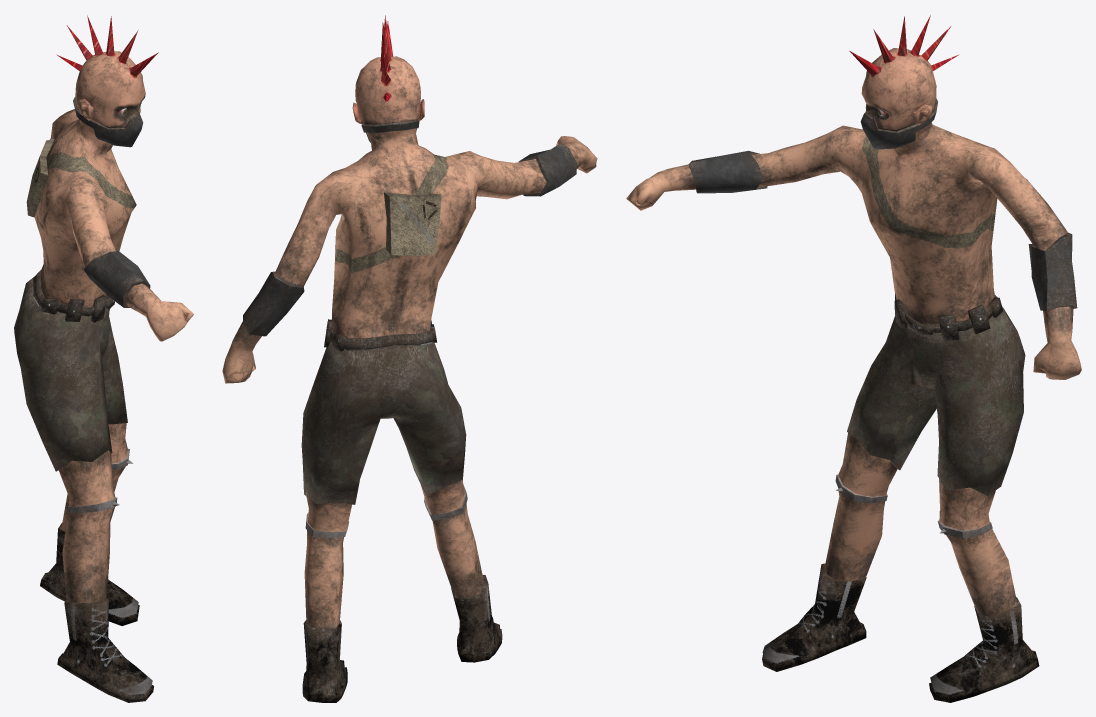
File: Anim_disparar_pistola_npc2.0021.obj
The picture shows the model from 3 angles, left to right: view 1: azimuth 30°, elevation 25°; view 2: azimuth 150°, elevation 25°; view 3: azimuth 270°, elevation 25°; orthographic projection. The views are drawn at different scales.
Visible parts, largest first — view 1: polySurface1; view 2: polySurface1; view 3: polySurface1.
Part boxes in pixels (<box>): polySurface1: <box>14,15,193,702</box>; polySurface1: <box>222,15,597,702</box>; polySurface1: <box>626,15,1081,702</box>.
Size of the model in its own units: 2.85 by 10.12 by 6.26.
Materials: 2 (2 with a texture image).
